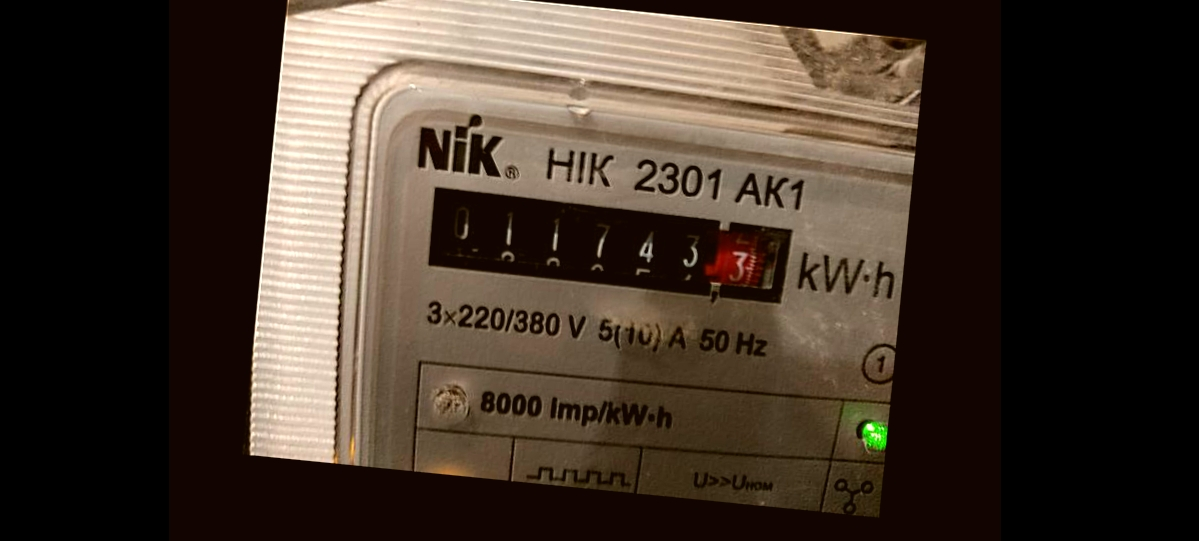0: (450, 202, 476, 243), (500, 206, 522, 249)
1: (547, 212, 567, 254)
3: (681, 228, 705, 273), (727, 246, 751, 286)
4: (636, 224, 660, 266)
7: (589, 216, 616, 262)
screen: (407, 172, 804, 316)
